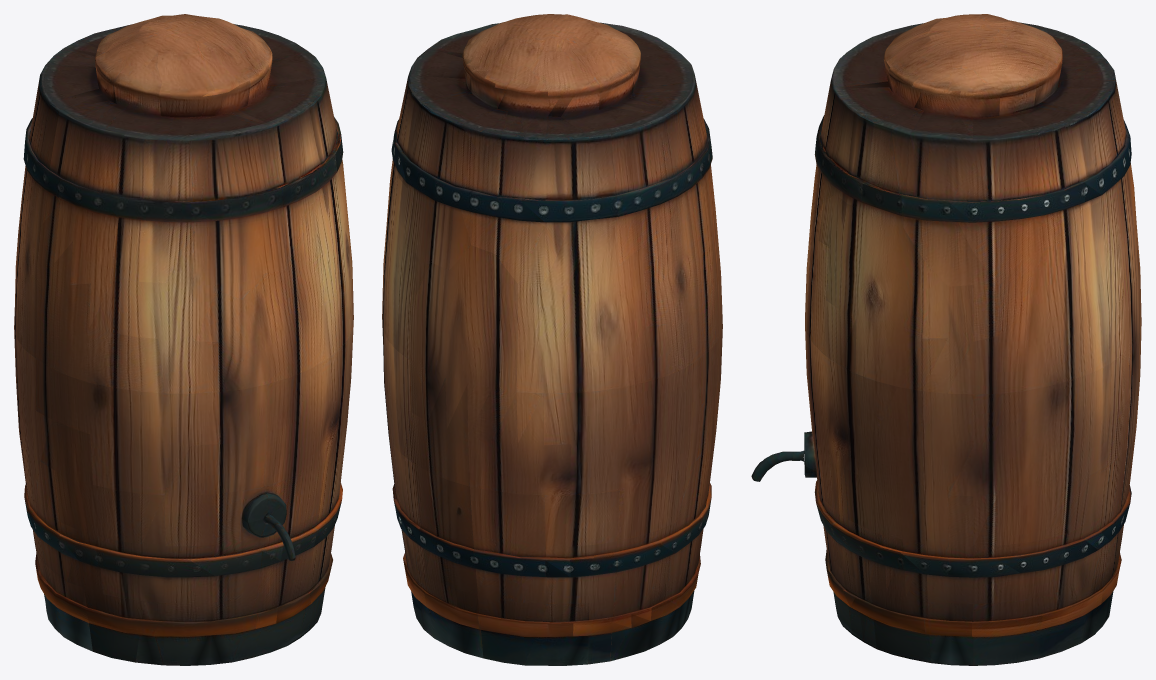
File: barrel.glb
The picture shows the model from 3 angles, left to right: view 1: azimuth 30°, elevation 25°; view 2: azimuth 150°, elevation 25°; view 3: azimuth 270°, elevation 25°; orthographic projection.
Size of the model in its own units: 0.4834 by 0.9 by 0.552.
1 material, 1 textured.
